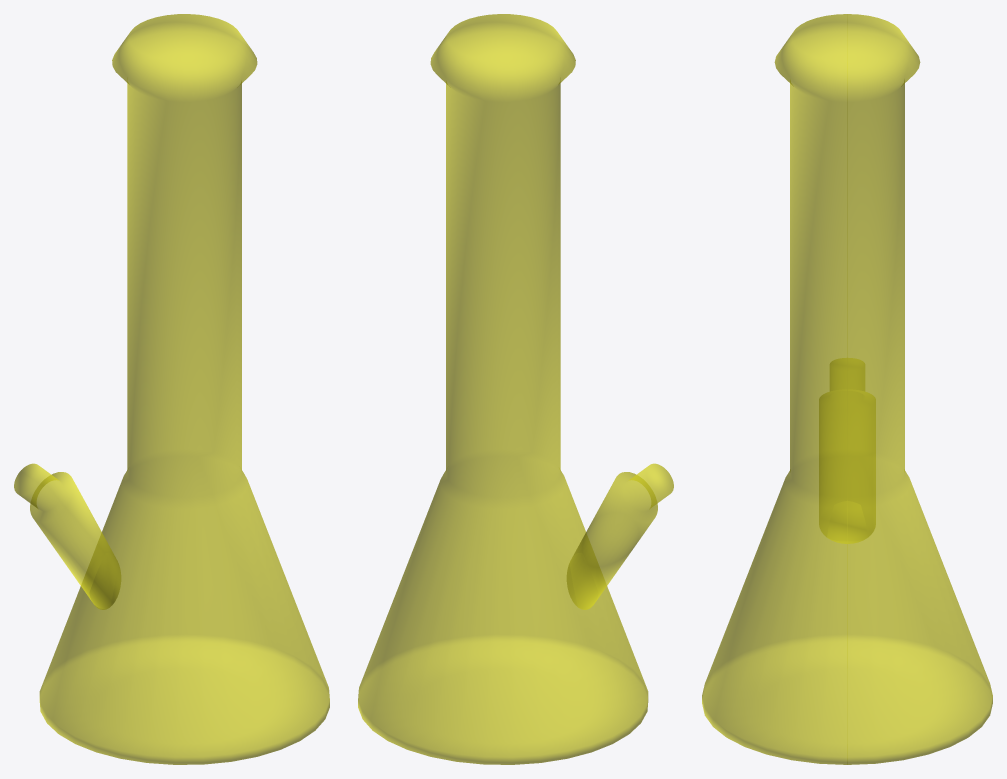
The model's file is bong.glb.
The picture shows the model from 3 angles, left to right: view 1: azimuth 30°, elevation 25°; view 2: azimuth 150°, elevation 25°; view 3: azimuth 270°, elevation 25°; orthographic projection.
Visible parts, largest first — view 1: Cylinder; view 2: Cylinder; view 3: Cylinder.
Part boxes in pixels (x1,y1,x2,y2): Cylinder: (14,14,329,764); Cylinder: (358,14,673,764); Cylinder: (702,14,992,764).
Size of the model in its own units: 2.04 by 4.43 by 1.75.
